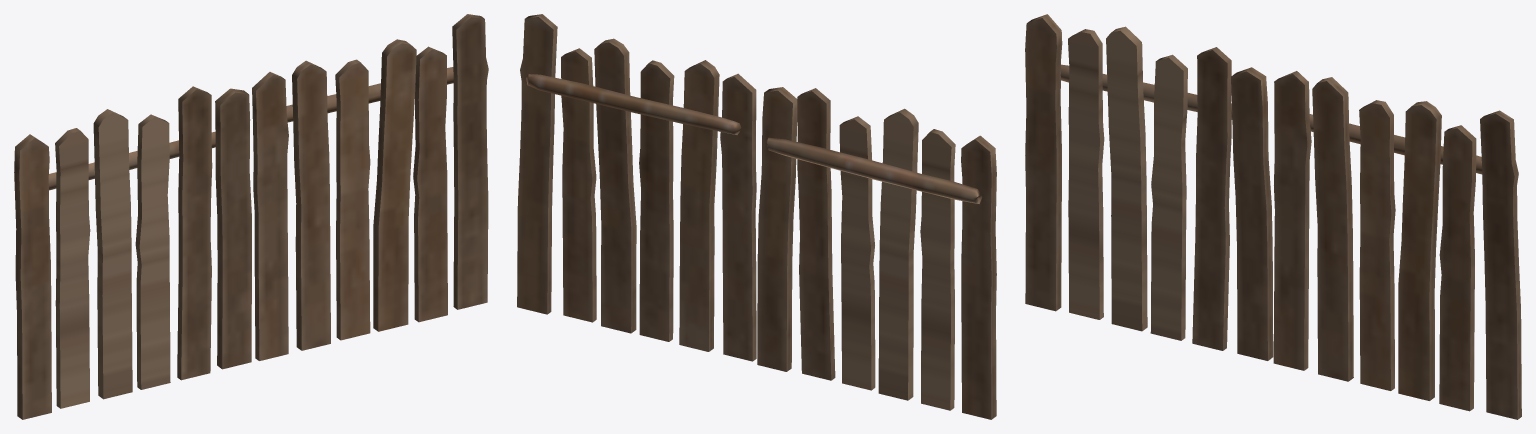
Rendered from objects_un_t01fence02.gltf.
The picture shows the model from 3 angles, left to right: view 1: azimuth 30°, elevation 25°; view 2: azimuth 150°, elevation 25°; view 3: azimuth 330°, elevation 25°; orthographic projection. The views are drawn at different scales.
Visible parts, largest first — view 1: objects_un_t01fence02_mesh_shape:objects_un_t01fence02_body0; view 2: objects_un_t01fence02_mesh_shape:objects_un_t01fence02_body0; view 3: objects_un_t01fence02_mesh_shape:objects_un_t01fence02_body0.
Boxes of the visible parts, x1=… form: objects_un_t01fence02_mesh_shape:objects_un_t01fence02_body0: x1=14, y1=14, x2=488, y2=419; objects_un_t01fence02_mesh_shape:objects_un_t01fence02_body0: x1=517, y1=14, x2=996, y2=419; objects_un_t01fence02_mesh_shape:objects_un_t01fence02_body0: x1=1025, y1=14, x2=1521, y2=419.
Size of what is drawn, in the model's own units: 2.38 by 1.41 by 0.1114.
Materials: 1 (1 with a texture image).
